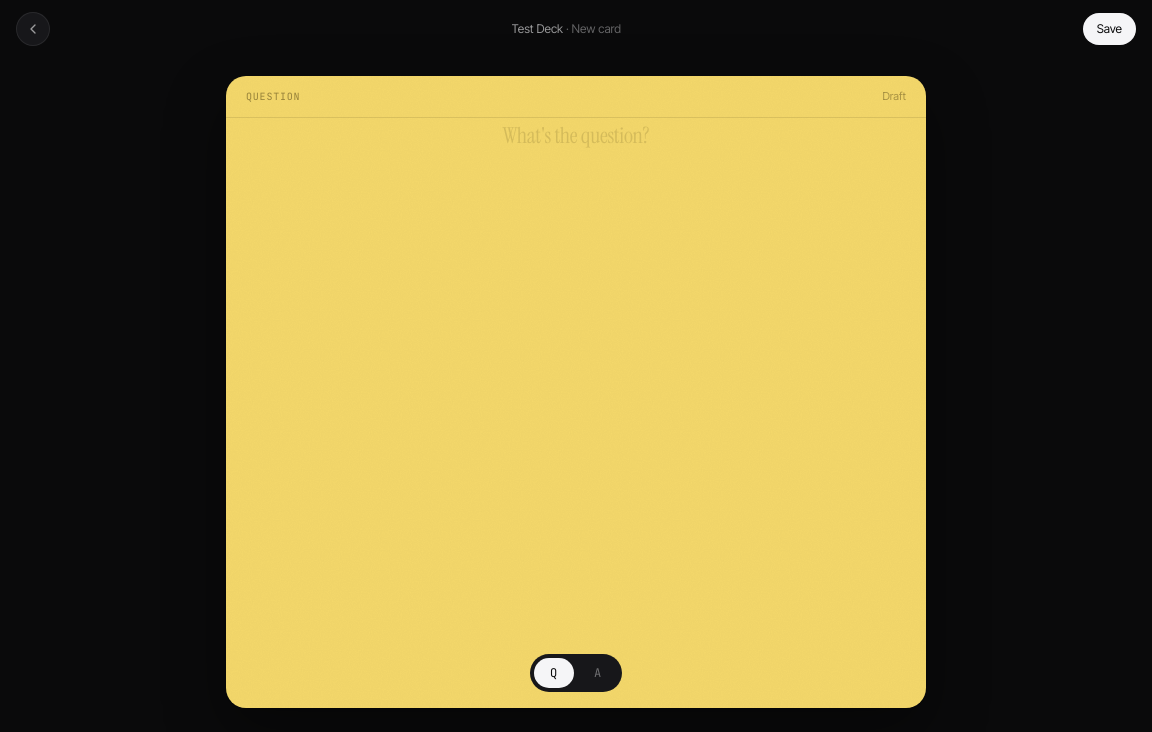
Test: CardEditor — mobile card body (Screen 3 tokens) › shows the error message centered below the card when save fails
Step 1. Click the button "Save" → (1109, 29), box left=1083, top=13, right=1136, bottom=45
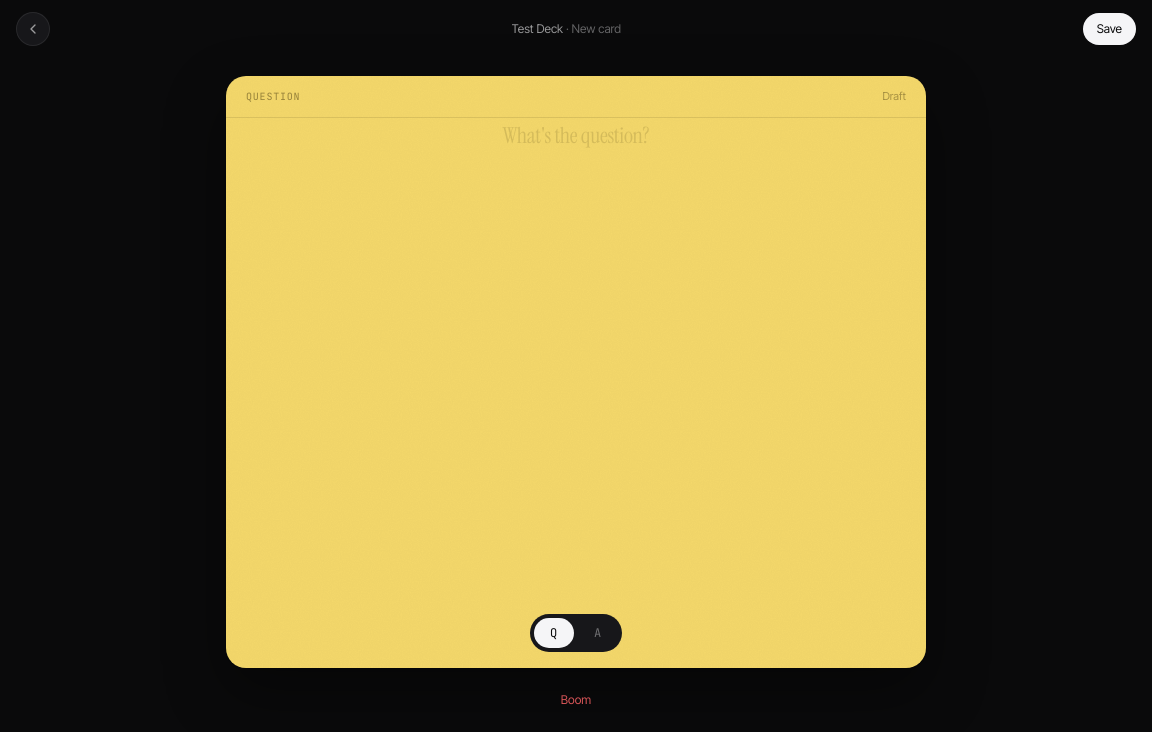
Check: the text "Boom" is shown, box left=561, top=692, right=591, bottom=708
